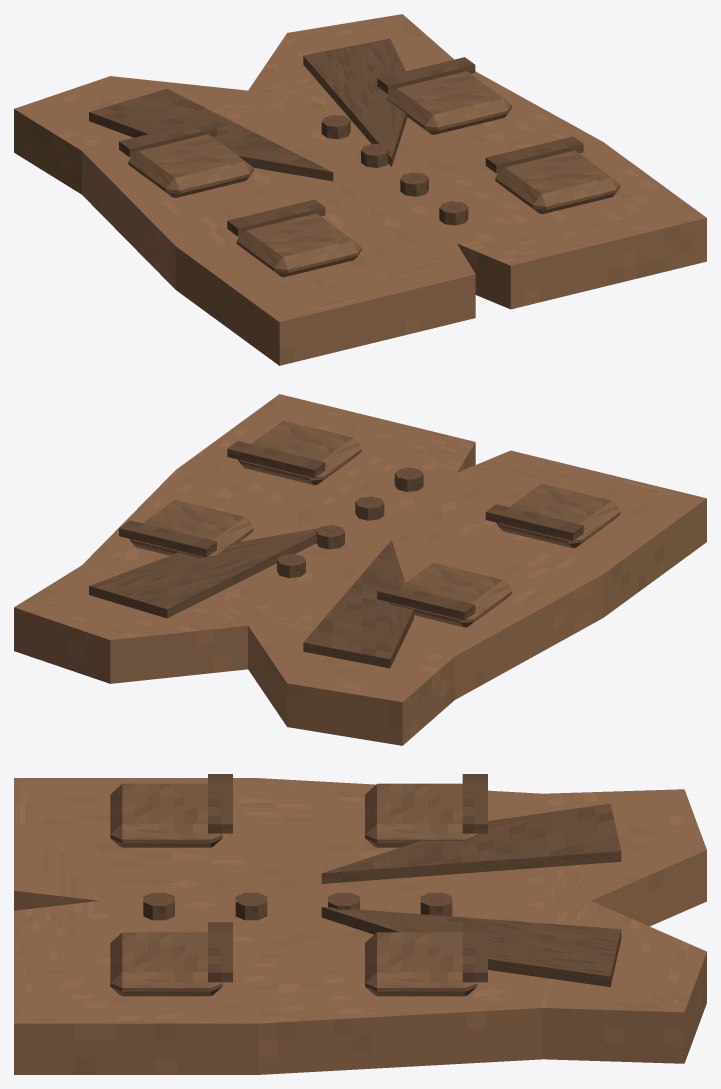
File: vest_leather.glb
The picture shows the model from 3 angles, top to bottom: view 1: azimuth 30°, elevation 25°; view 2: azimuth 150°, elevation 25°; view 3: azimuth 270°, elevation 25°; orthographic projection. The views are drawn at different scales.
Parts seen in each view (by area): view 1: block_coat body, block_patch pocket (×4), block_lapel (×2), block_pocket welt (×4), block_button (×4); view 2: block_coat body, block_lapel (×2), block_patch pocket (×4), block_pocket welt (×4), block_button (×4); view 3: block_coat body, block_patch pocket (×4), block_lapel (×2), block_pocket welt (×4), block_button (×4).
Part boxes in pixels (x1,y1,x2,y2): block_coat body: [14, 14, 706, 365]; block_patch pocket (×4): [128, 71, 620, 277]; block_lapel (×2): [89, 38, 407, 181]; block_pocket welt (×4): [119, 57, 583, 236]; block_button (×4): [321, 115, 468, 225]; block_coat body: [14, 394, 706, 745]; block_lapel (×2): [89, 528, 413, 668]; block_patch pocket (×4): [129, 420, 620, 627]; block_pocket welt (×4): [119, 441, 583, 620]; block_button (×4): [277, 467, 423, 578]; block_coat body: [14, 778, 706, 1074]; block_patch pocket (×4): [110, 783, 477, 996]; block_lapel (×2): [321, 803, 621, 987]; block_pocket welt (×4): [208, 774, 487, 982]; block_button (×4): [143, 892, 452, 920].
Size of the model in its own units: 0.5403 by 0.081 by 0.6447.
Materials: 1 (1 with a texture image).
